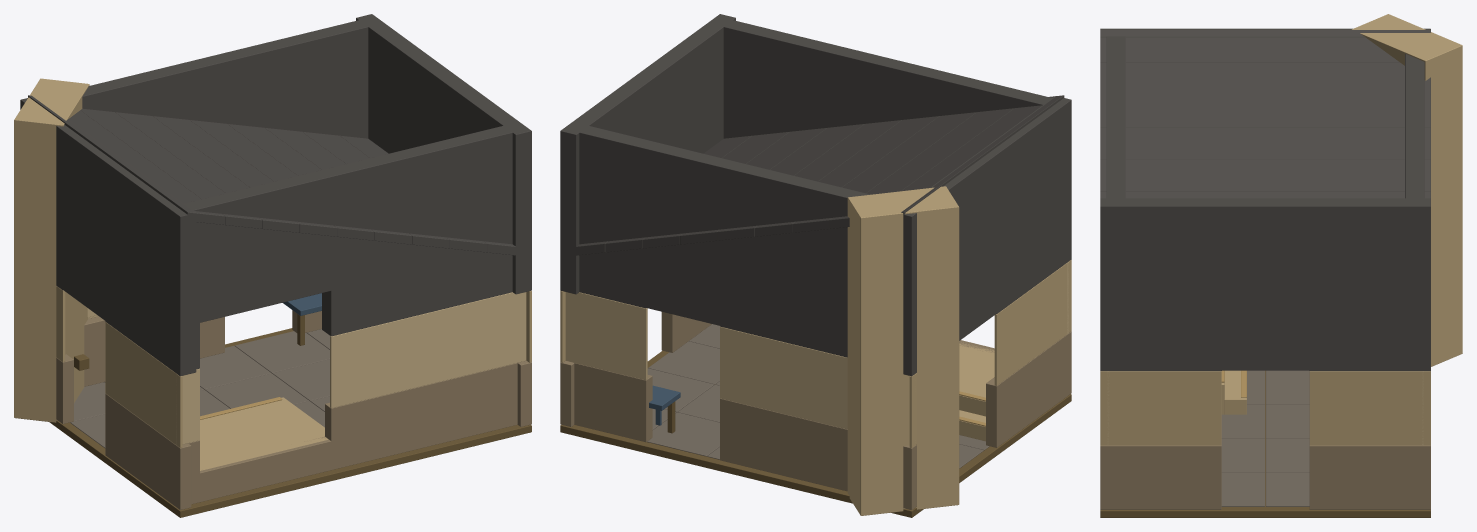
Rendered from crossing.glb.
The picture shows the model from 3 angles, left to right: view 1: azimuth 30°, elevation 25°; view 2: azimuth 150°, elevation 25°; view 3: azimuth 270°, elevation 25°; orthographic projection. The views are drawn at different scales.
Parts seen in each view (by area): view 1: CROSSING; view 2: CROSSING; view 3: CROSSING.
Part boxes in pixels (box(x1,y1,x2,y2)): CROSSING: box(14, 14, 531, 517); CROSSING: box(560, 14, 1071, 517); CROSSING: box(1100, 14, 1462, 517).
Bounding box in the file's own units: 6.07 × 4.66 × 4.87.
